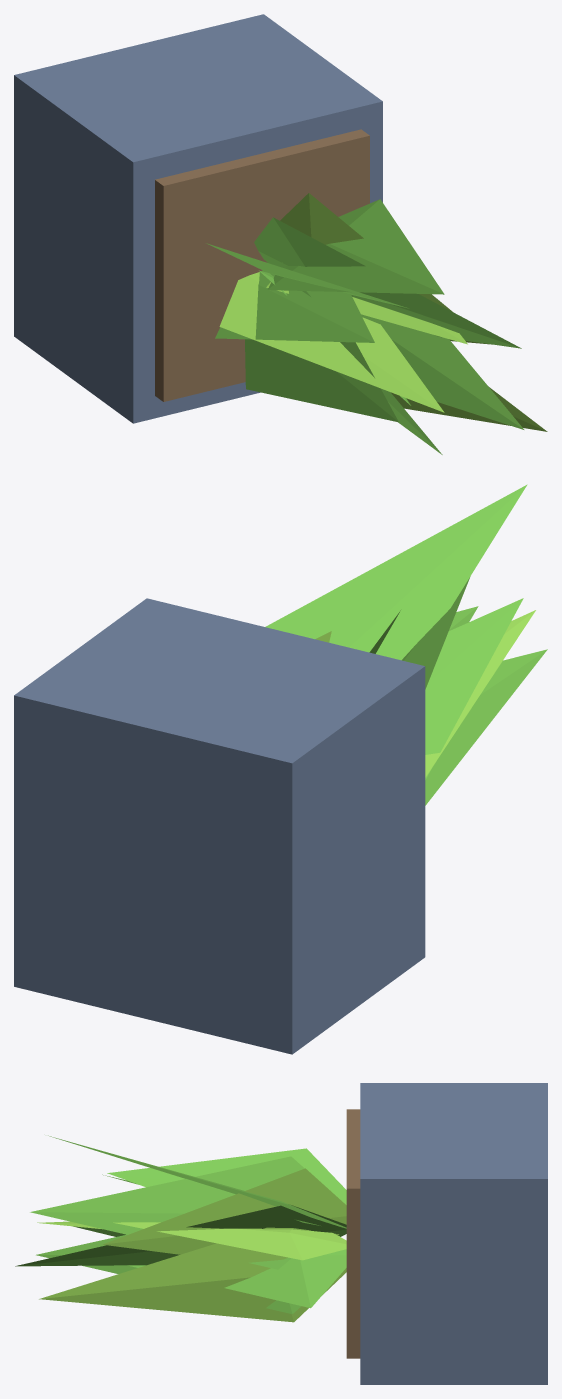
File: 31_plant_medium.glb
The picture shows the model from 3 angles, top to bottom: view 1: azimuth 30°, elevation 25°; view 2: azimuth 150°, elevation 25°; view 3: azimuth 270°, elevation 25°; orthographic projection. The views are drawn at different scales.
Visible parts, largest first — view 1: part_1, part_2, part_4, part_9, part_11, part_10, part_5, part_7, part_6, part_3, part_12, part_8 (+1 smaller); view 2: part_1, part_4, part_10, part_11, part_9, part_8; view 3: part_1, part_12, part_7, part_6, part_5, part_2, part_14, part_3, part_8, part_4, part_13.
Boxes of the visible parts, box(x1,y1,x2,y2) form: part_1: box(14, 14, 382, 423); part_2: box(155, 129, 369, 401); part_4: box(267, 199, 444, 294); part_9: box(219, 272, 444, 412); part_11: box(245, 339, 398, 422); part_10: box(215, 270, 374, 342); part_5: box(347, 223, 524, 429); part_7: box(254, 217, 521, 348); part_6: box(280, 193, 491, 344); part_3: box(266, 282, 467, 344); part_12: box(391, 386, 547, 431); part_8: box(206, 243, 408, 308); part_1: box(14, 598, 425, 1054); part_4: box(265, 484, 527, 660); part_10: box(425, 598, 523, 779); part_11: box(425, 649, 547, 805); part_9: box(425, 610, 535, 777); part_8: box(402, 576, 470, 689); part_1: box(360, 1083, 547, 1384); part_12: box(39, 1227, 346, 1322); part_7: box(30, 1156, 304, 1269); part_6: box(102, 1168, 346, 1254); part_5: box(15, 1205, 346, 1266); part_2: box(346, 1109, 360, 1358); part_14: box(127, 1236, 346, 1308); part_3: box(113, 1222, 346, 1260); part_8: box(107, 1148, 346, 1204); part_4: box(48, 1135, 346, 1228); part_13: box(36, 1234, 301, 1314).
Size of the model in its own units: 0.675 by 0.675 by 1.59.
